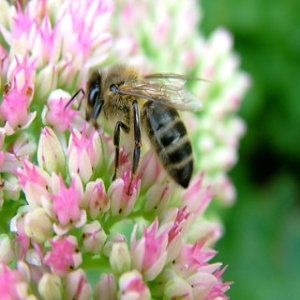bee: (87, 65, 203, 202)
